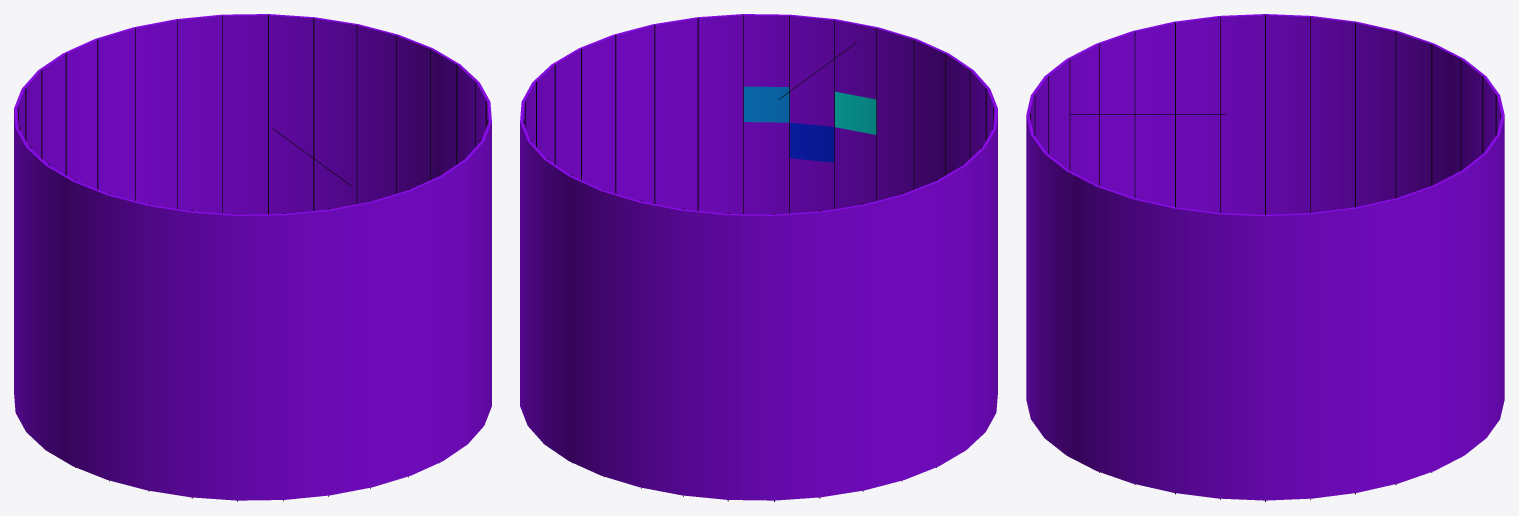
Rendered from Gitter_Karussell_final.fbx.
3 renders of one model, left to right at view 1: azimuth 30°, elevation 25°; view 2: azimuth 150°, elevation 25°; view 3: azimuth 270°, elevation 25°, orthographic.
Parts seen in each view (by area): view 1: Röhre; view 2: Röhre; view 3: Röhre.
Part boxes in pixels (x1=…): Röhre: x1=14, y1=14, x2=491, y2=500; Röhre: x1=520, y1=14, x2=997, y2=500; Röhre: x1=1026, y1=14, x2=1504, y2=500.
Size of what is drawn, in the model's own units: 610 by 406 by 610.
